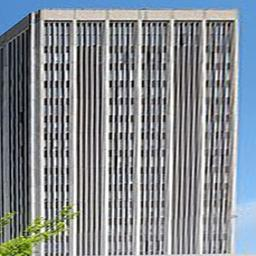building: (31, 7, 238, 256)
